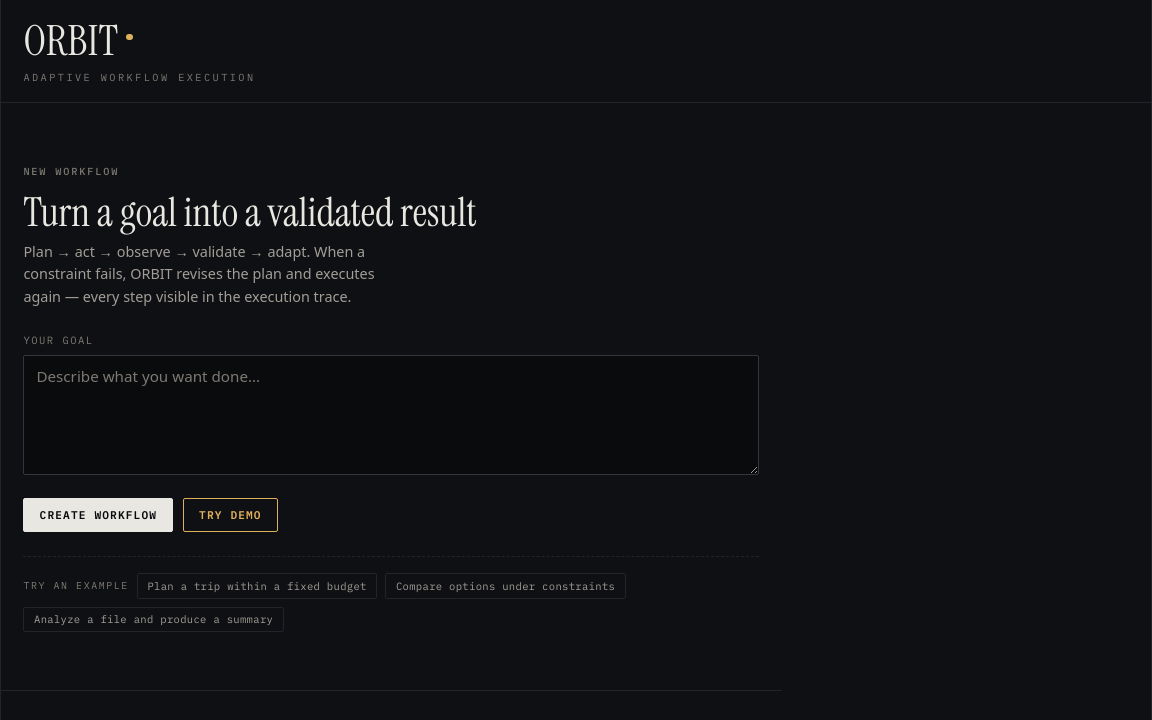
Scenario: edge cases › 4. a 422 surfaces the FastAPI issues list
Type "x" into the text box named "goal-input". click: point(391, 415)
box: [23, 355, 759, 475]
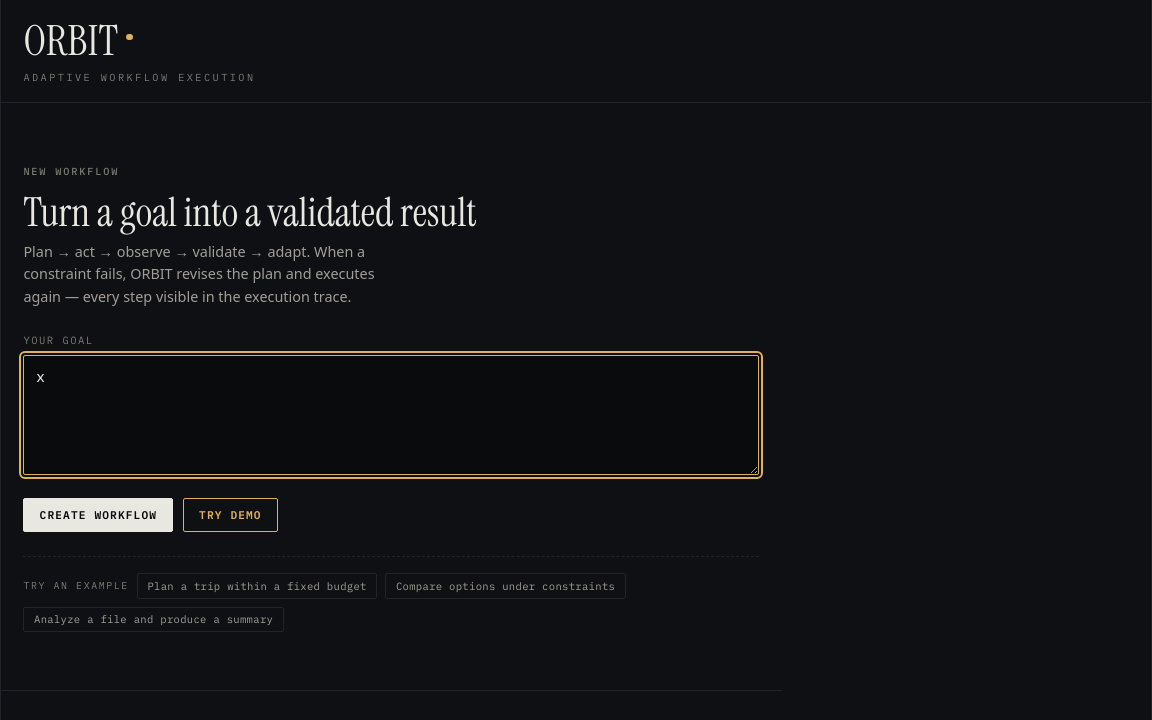
Click the button "Create workflow". click: point(98, 515)
box: [23, 498, 173, 532]
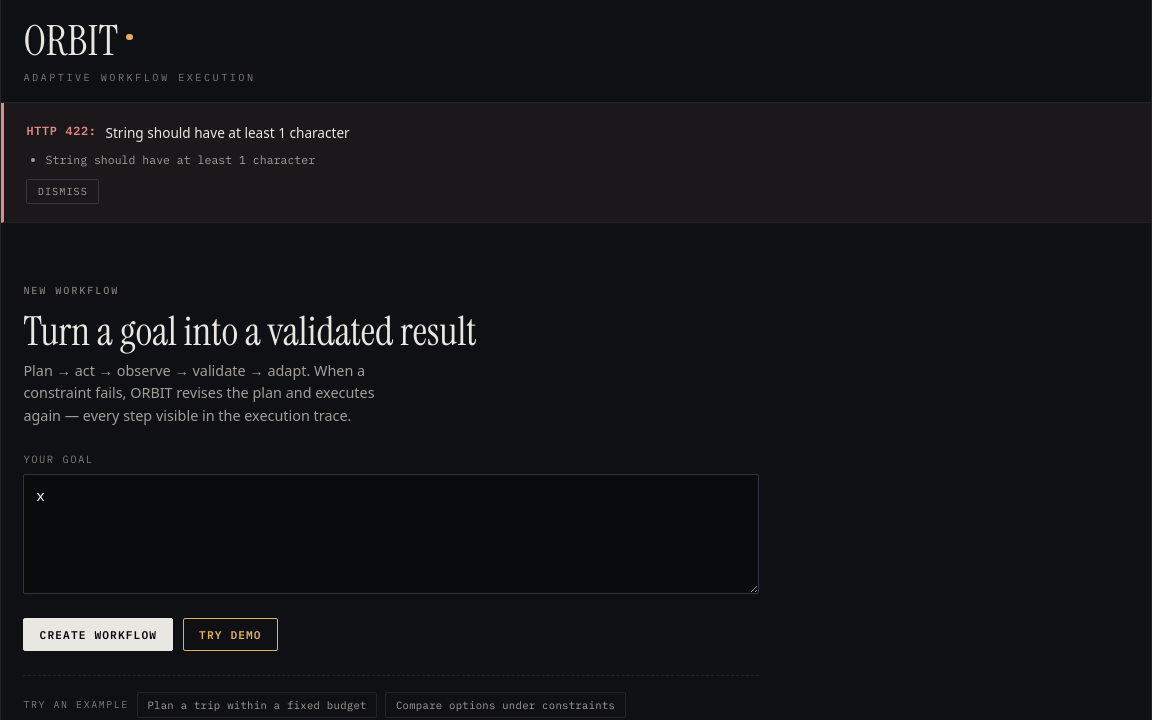
Now the message with test id "error-banner" shows "HTTP 422", box [26, 123, 89, 138]
Now the list named "error-issues" reads "String should have at least 1 character", box [46, 152, 315, 167]
